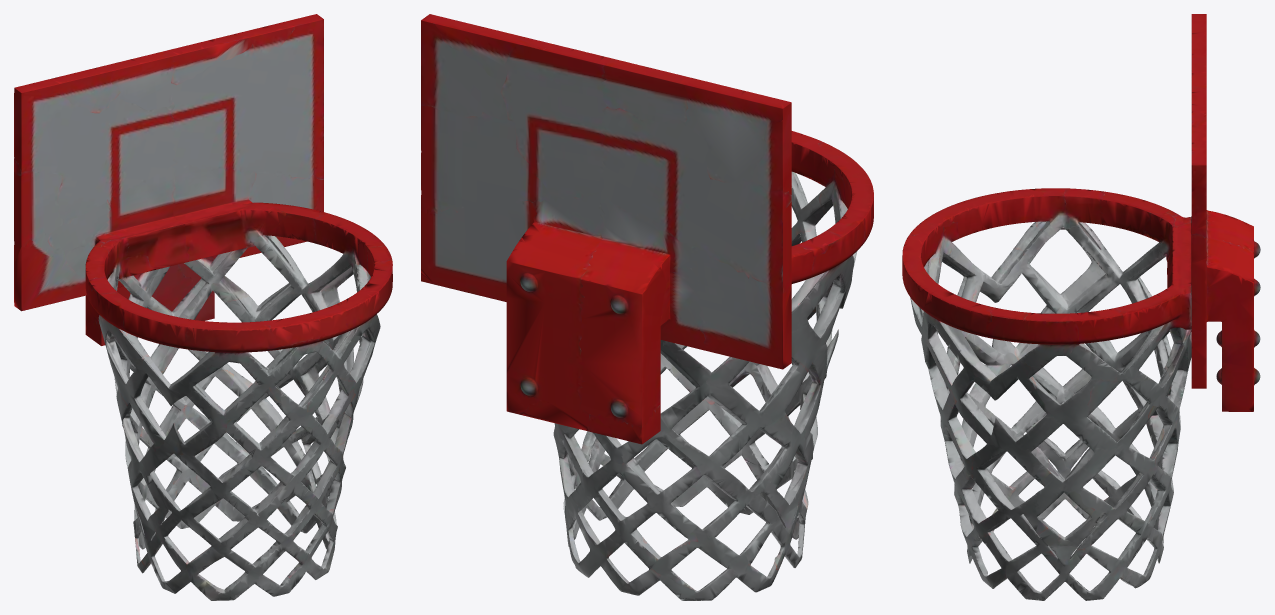
Rendered from Canestro.glb.
The picture shows the model from 3 angles, left to right: view 1: azimuth 30°, elevation 25°; view 2: azimuth 150°, elevation 25°; view 3: azimuth 270°, elevation 25°; orthographic projection. The views are drawn at different scales.
Bounding box in the file's own units: 1.31 × 1.9 × 1.31.
Materials: 1 (1 with a texture image).
